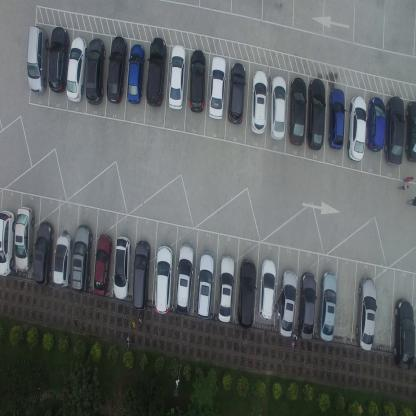car: (355, 275, 376, 352), (26, 25, 49, 94), (65, 35, 88, 104), (145, 36, 167, 108), (70, 223, 92, 294), (394, 297, 415, 370), (84, 37, 106, 106), (106, 35, 128, 104), (385, 93, 405, 168), (32, 219, 53, 288), (317, 272, 337, 343), (277, 268, 297, 339), (174, 243, 194, 314), (49, 26, 70, 93), (131, 238, 150, 312), (297, 271, 317, 341), (347, 94, 367, 163), (194, 251, 214, 320), (237, 258, 256, 330), (14, 204, 34, 272), (306, 77, 324, 151), (154, 244, 173, 314), (92, 232, 112, 298), (168, 44, 187, 111), (288, 76, 306, 146), (226, 60, 245, 126), (249, 68, 268, 134), (126, 43, 146, 105), (268, 75, 286, 141), (208, 55, 226, 119), (113, 234, 130, 301), (326, 87, 344, 150), (218, 254, 234, 324), (52, 233, 72, 289), (258, 258, 276, 320), (189, 49, 206, 113), (0, 208, 15, 278), (366, 96, 384, 152), (404, 100, 416, 162)
